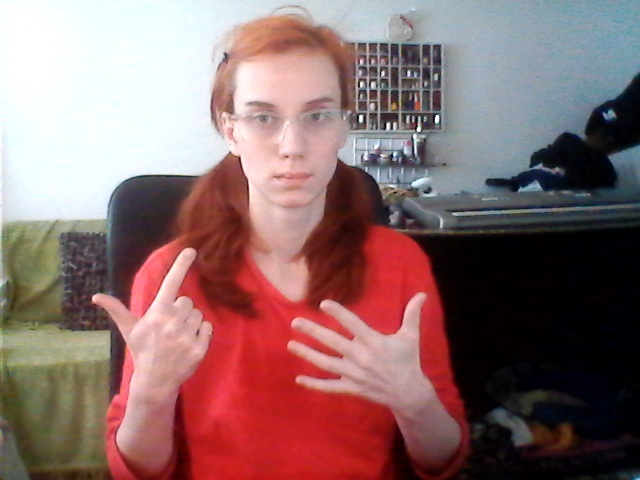sedem: (81, 246, 450, 408)
